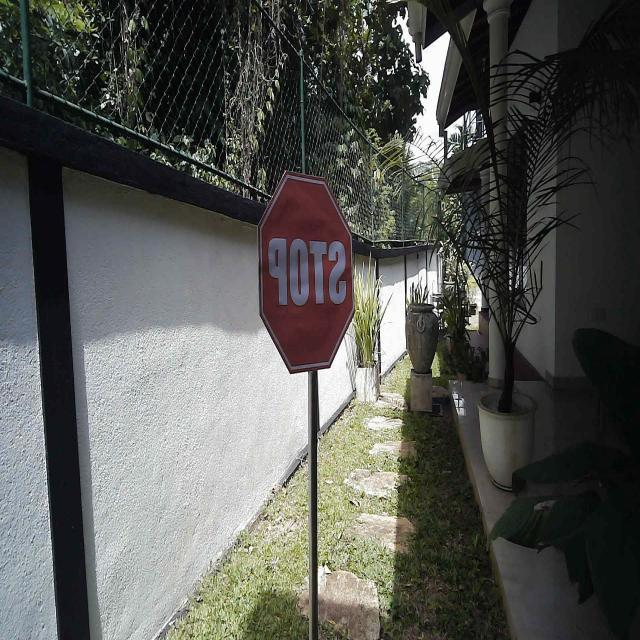stop: (256, 166, 356, 376)
